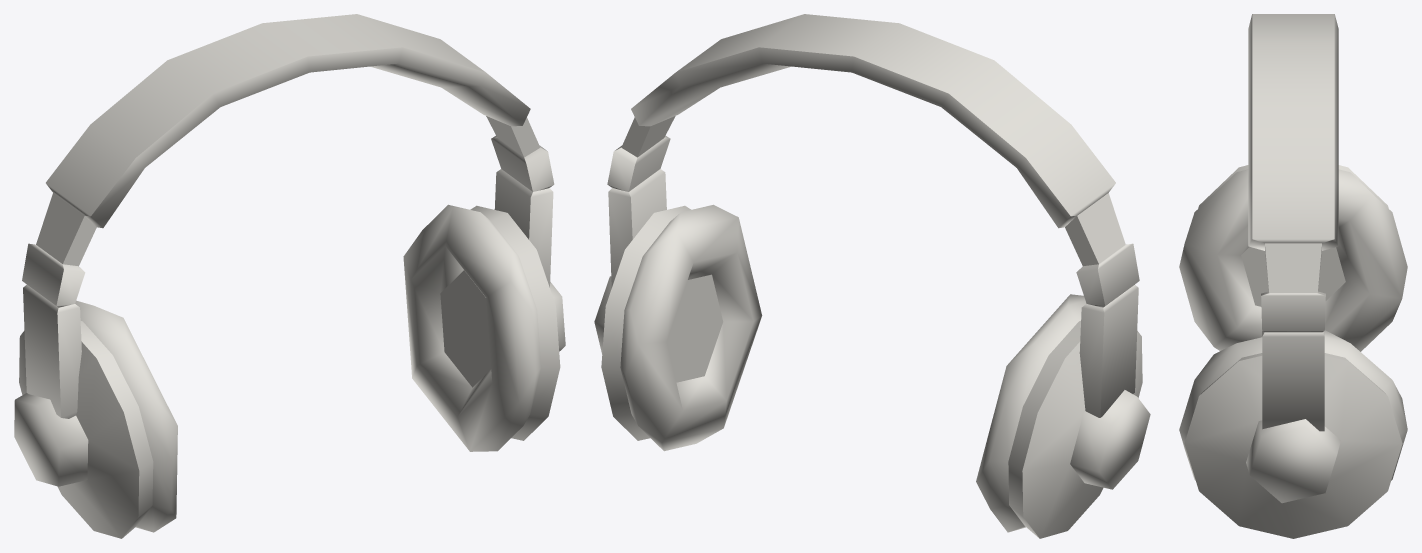
File: headfones.glb
The picture shows the model from 3 angles, left to right: view 1: azimuth 30°, elevation 25°; view 2: azimuth 150°, elevation 25°; view 3: azimuth 270°, elevation 25°; orthographic projection. The views are drawn at different scales.
Visible parts, largest first — view 1: node_id36, node_id34; view 2: node_id36, node_id34; view 3: node_id36, node_id34.
Boxes of the visible parts, x1,y1,x2,y2 form: node_id36: [14, 204, 565, 538]; node_id34: [22, 14, 554, 418]; node_id36: [594, 204, 1150, 538]; node_id34: [607, 14, 1139, 417]; node_id36: [1179, 165, 1407, 538]; node_id34: [1248, 14, 1338, 431].
Bounding box in the file's own units: 0.512 × 0.4258 × 0.217.
2 materials, 2 textured.
